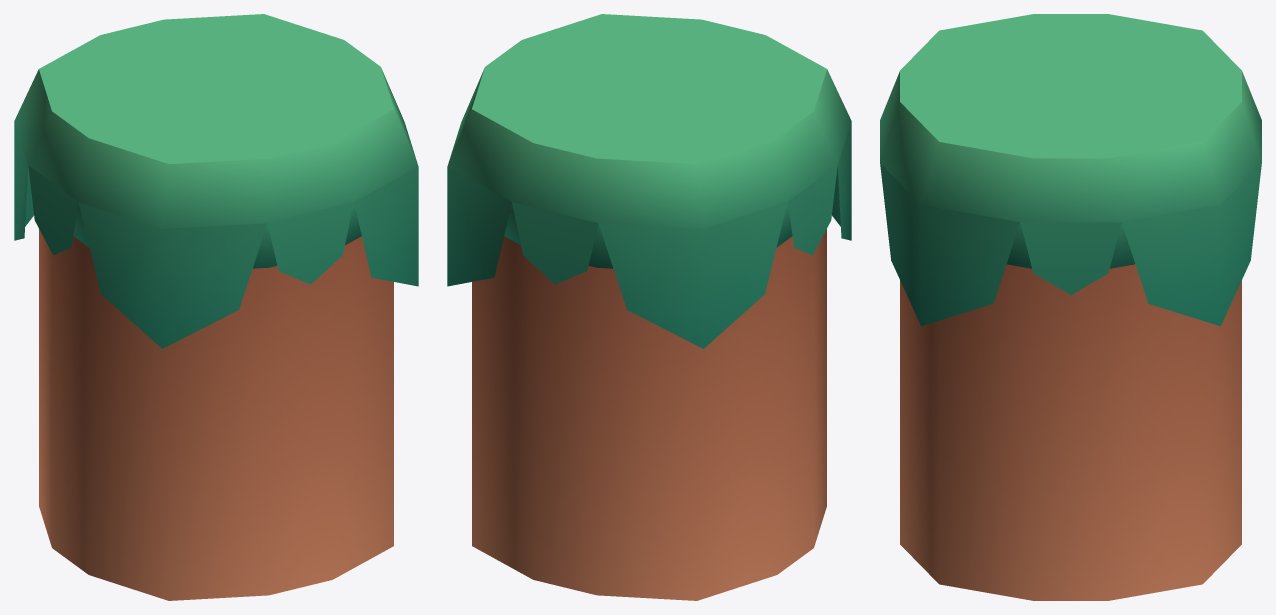
Rendered from block-grass-overhang-narrow.glb.
The picture shows the model from 3 angles, left to right: view 1: azimuth 30°, elevation 25°; view 2: azimuth 150°, elevation 25°; view 3: azimuth 270°, elevation 25°; orthographic projection.
Visible parts, largest first — view 1: block-grass-overhang-narrow; view 2: block-grass-overhang-narrow; view 3: block-grass-overhang-narrow.
Part boxes in pixels (box(x1,y1,x2,y2)): block-grass-overhang-narrow: box(14, 14, 418, 600); block-grass-overhang-narrow: box(447, 14, 851, 600); block-grass-overhang-narrow: box(880, 14, 1261, 600).
Bounding box in the file's own units: 0.7821 × 1 × 0.7821.
Materials: 1 (1 with a texture image).
